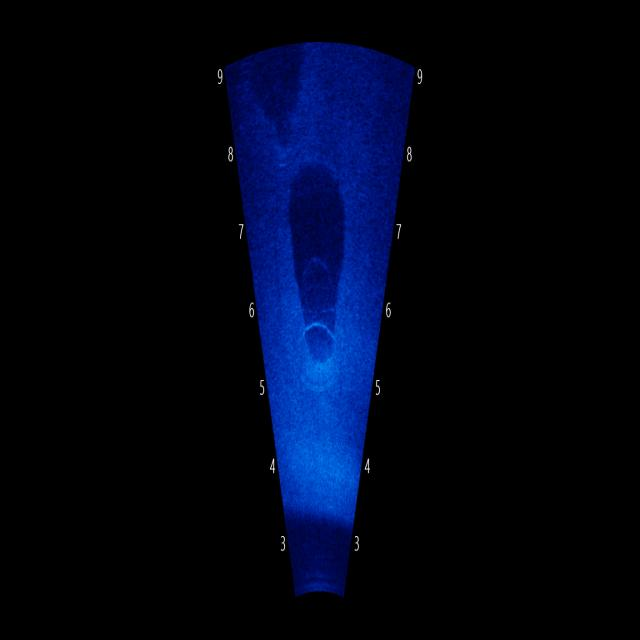circle: (282, 302, 355, 428)
